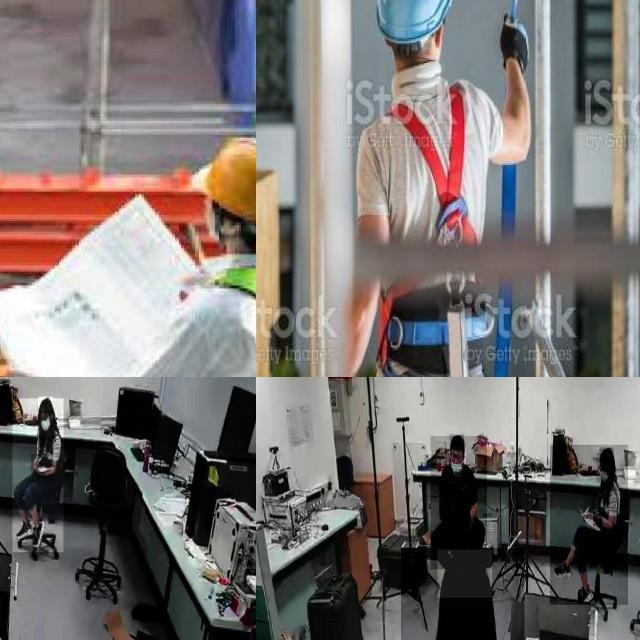Harness: (391, 84, 478, 246), (162, 255, 256, 377)
face_mask: (446, 448, 466, 479), (596, 453, 612, 484), (38, 412, 54, 436)
hand_noglove: (31, 453, 39, 475), (593, 514, 603, 528)
head_nohelmet: (438, 550, 492, 598), (38, 396, 54, 412), (450, 434, 464, 450), (600, 447, 614, 461)
person: (550, 444, 628, 606), (401, 548, 525, 640), (12, 398, 64, 553), (430, 436, 488, 569)
shoes: (552, 558, 574, 584), (14, 516, 34, 542), (31, 516, 46, 550)
